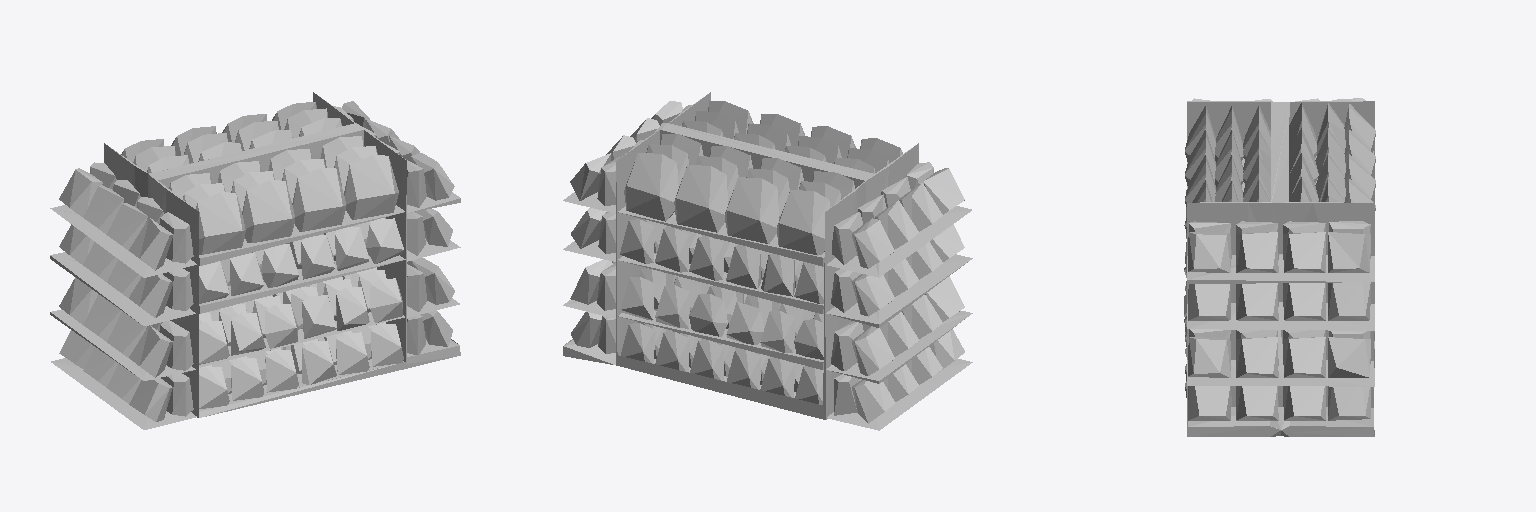
File: chip shelf.obj
The picture shows the model from 3 angles: view 1: azimuth 30°, elevation 25°; view 2: azimuth 150°, elevation 25°; view 3: azimuth 270°, elevation 25°; orthographic projection.
Parts seen in each view (by area): view 1: chip_bag_geo19.003; view 2: chip_bag_geo19.003; view 3: chip_bag_geo19.003.
Boxes of the visible parts, x1,y1,x2,y2 form: chip_bag_geo19.003: [50, 92, 460, 429]; chip_bag_geo19.003: [563, 92, 972, 430]; chip_bag_geo19.003: [1184, 98, 1375, 436].
Size of the model in its own units: 12.33 by 8.24 by 6.48.